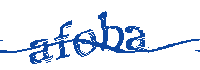a: (124, 22, 147, 51), (29, 38, 52, 66)
b: (98, 9, 123, 52)
f: (54, 17, 74, 61)
o: (73, 28, 97, 58)
